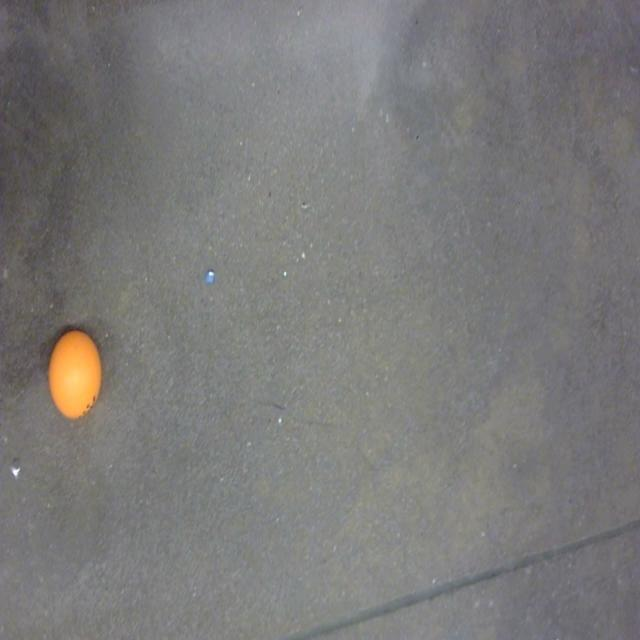ball: (47, 319, 107, 422)
